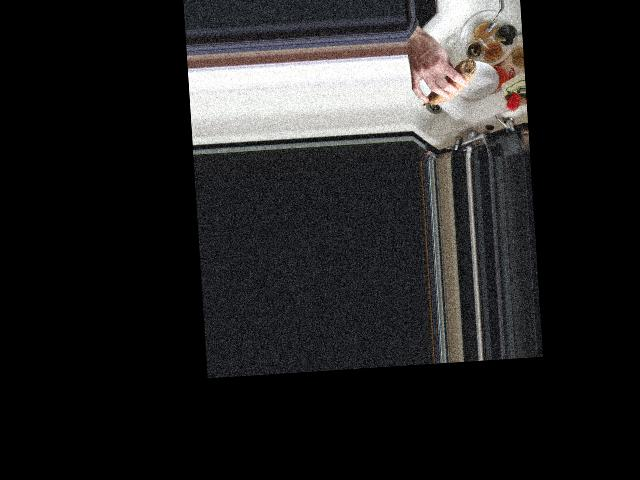sweet_potato: (419, 59, 476, 105)
